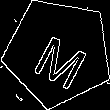M_NE: (26, 19, 91, 86)
